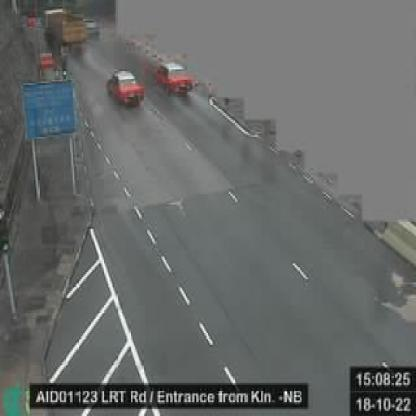Car: (151, 56, 196, 103), (107, 68, 145, 111)
Truck: (44, 9, 88, 60)
